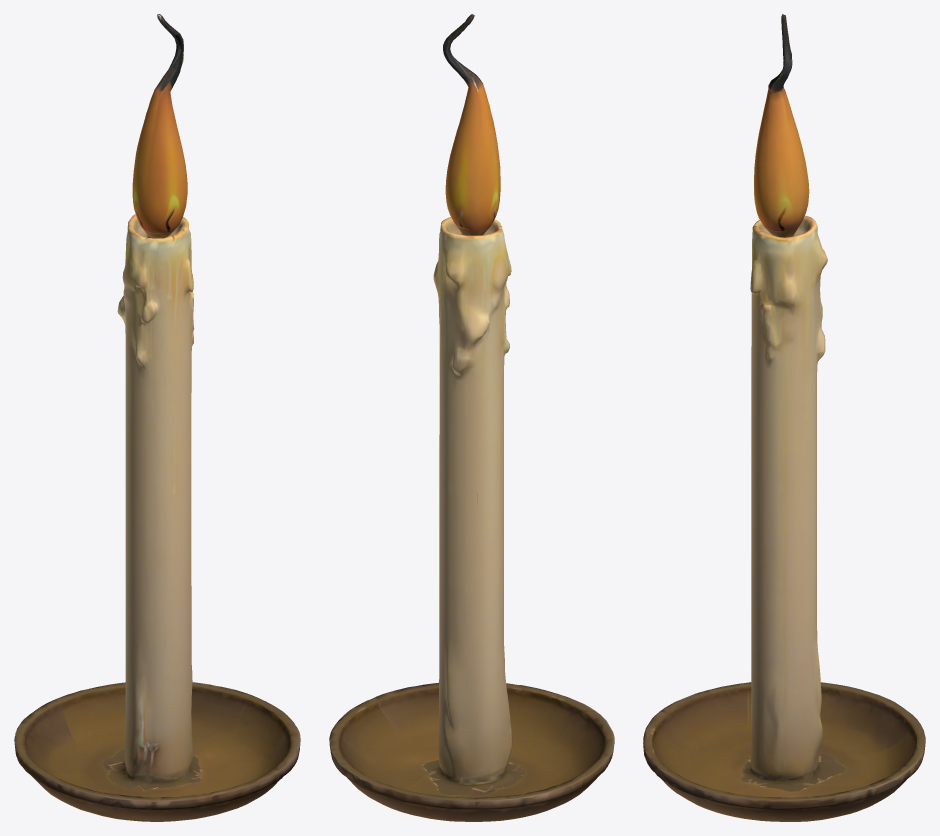
File: Illuminated_Stillness_0522214502_texture.glb
The picture shows the model from 3 angles, left to right: view 1: azimuth 30°, elevation 25°; view 2: azimuth 150°, elevation 25°; view 3: azimuth 270°, elevation 25°; orthographic projection.
Size of the model in its own units: 0.6769 by 2 by 0.6704.
1 material, 1 textured.
